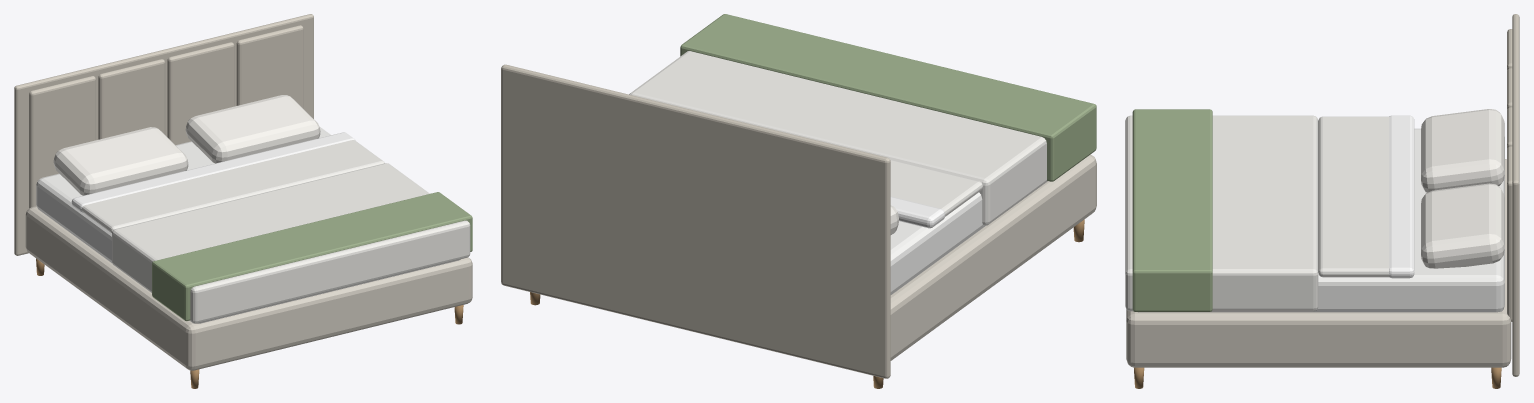
The model's file is bed.glb.
The picture shows the model from 3 angles, left to right: view 1: azimuth 30°, elevation 25°; view 2: azimuth 150°, elevation 25°; view 3: azimuth 270°, elevation 25°; orthographic projection. The views are drawn at different scales.
Parts seen in each view (by area): view 1: bed, duvet_flap; view 2: bed, duvet_flap; view 3: bed, duvet_flap.
Part boxes in pixels (<box>): bed: <box>14,14,472,388</box>; duvet_flap: <box>71,132,384,233</box>; bed: <box>501,14,1096,388</box>; duvet_flap: <box>890,159,982,228</box>; bed: <box>1125,14,1519,388</box>; duvet_flap: <box>1318,115,1414,278</box>.
Bounding box in the file's own units: 1.9 × 1.13 × 1.88.
